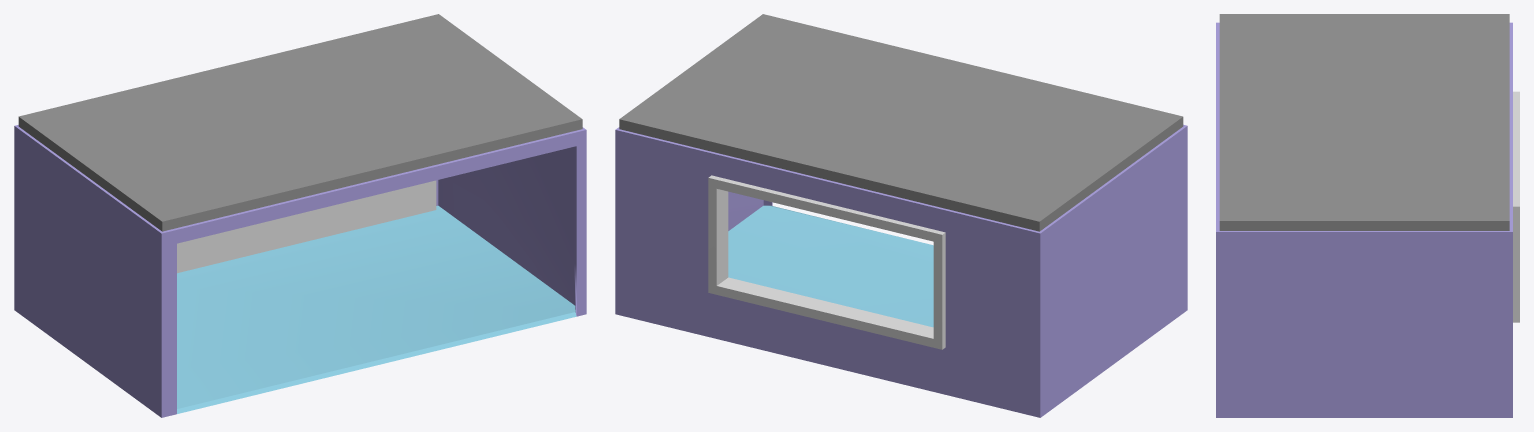
The picture shows the model from 3 angles, left to right: view 1: azimuth 30°, elevation 25°; view 2: azimuth 150°, elevation 25°; view 3: azimuth 270°, elevation 25°; orthographic projection.
Visible parts, largest first — view 1: Rectangle003, Box001, 对象001, Rectangle006; view 2: Box001, Rectangle003, 对象001, Rectangle005; view 3: Rectangle003, Box001, Rectangle005.
Part boxes in pixels (x1,y1,x2,y2): Rectangle003: (18, 14, 582, 231); Box001: (14, 125, 586, 417); 对象001: (177, 205, 575, 408); Rectangle006: (177, 180, 436, 273); Box001: (615, 124, 1187, 417); Rectangle003: (619, 14, 1183, 231); 对象001: (728, 205, 933, 327); Rectangle005: (708, 175, 945, 349); Rectangle003: (1219, 14, 1509, 230); Box001: (1216, 22, 1512, 417); Rectangle005: (1513, 91, 1519, 322).
Bounding box in the file's own units: 394 × 172 × 242.
